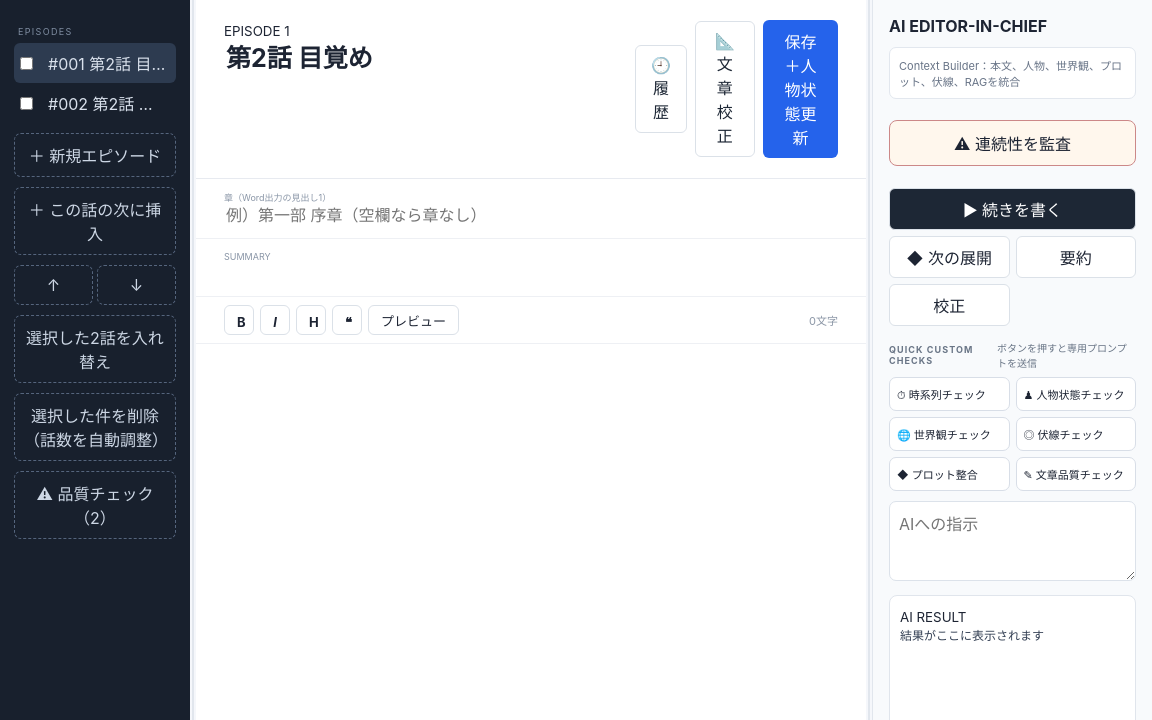
WritePanel — episode management › shows the quality-check modal with detected issues and jumps to the episode on click
Click the button "⚠ 品質チェック（2）" at (95, 505), box [14,471,176,539]
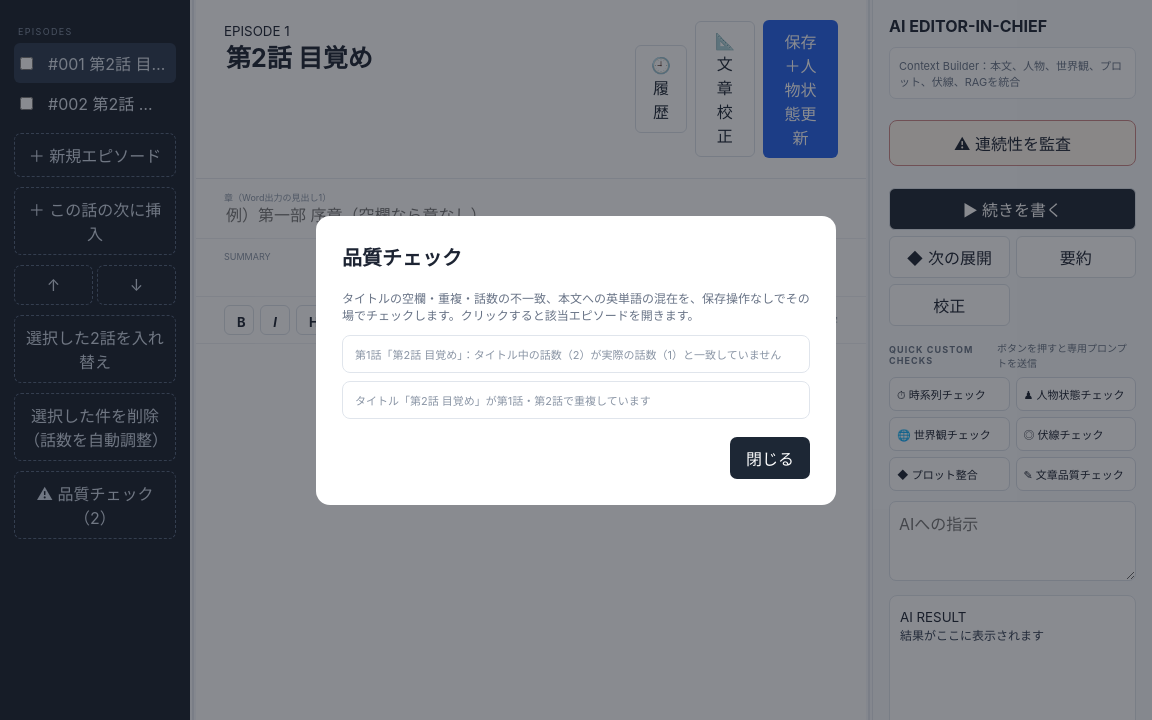
expect the text "第1話「第2話 目覚め」：タイトル中の話数（2）が実際の話数（1）と一致していません" is shown: met, box [355,346,781,362]
expect the text "タイトル「第2話 目覚め」が第1話・第2話で重複しています" is shown: met, box [355,392,651,408]
